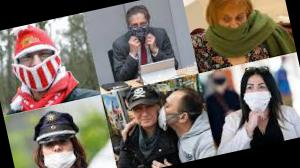mask_weared_incorrect: (15, 42, 60, 88), (216, 10, 252, 48), (42, 138, 75, 168)
with_mask: (155, 96, 180, 133), (245, 79, 271, 108), (130, 18, 151, 35)
without_mask: (134, 104, 158, 130)
